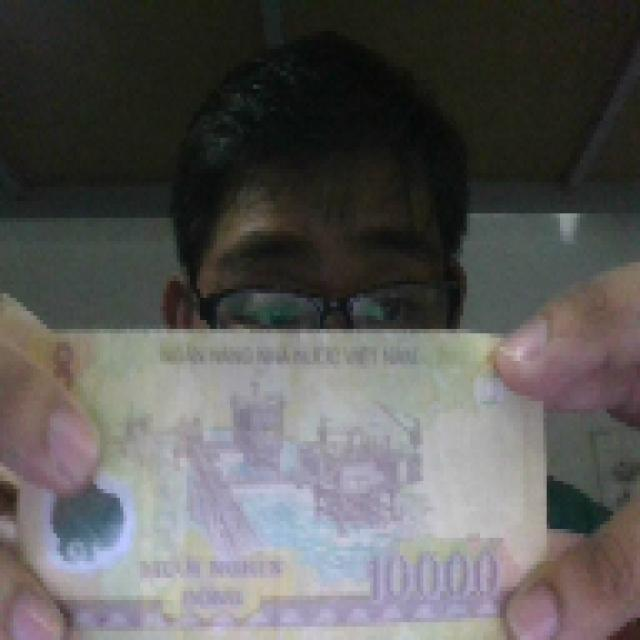10 000 VND: (0, 320, 553, 635)
